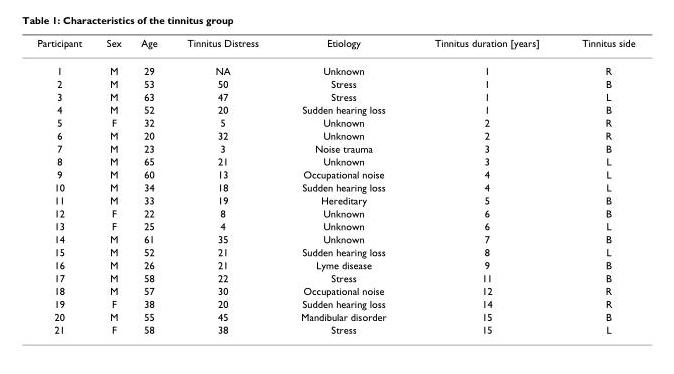table: (36, 36, 634, 335)
table column: (409, 36, 559, 335), (279, 36, 409, 335), (171, 36, 279, 335), (559, 36, 634, 335), (36, 36, 93, 335), (130, 36, 171, 335), (93, 36, 130, 335)
table column header: (36, 36, 634, 56)
table row: (36, 36, 634, 56), (36, 56, 634, 76), (36, 76, 634, 89), (36, 89, 634, 102), (36, 102, 634, 115), (36, 115, 634, 128), (36, 128, 634, 141), (36, 141, 634, 154), (36, 154, 634, 167), (36, 167, 634, 180), (36, 180, 634, 193), (36, 193, 634, 206), (36, 206, 634, 219), (36, 219, 634, 232), (36, 232, 634, 245), (36, 245, 634, 258), (36, 258, 634, 271), (36, 271, 634, 284), (36, 296, 634, 309), (36, 309, 634, 322), (36, 322, 634, 335), (36, 284, 634, 296)
